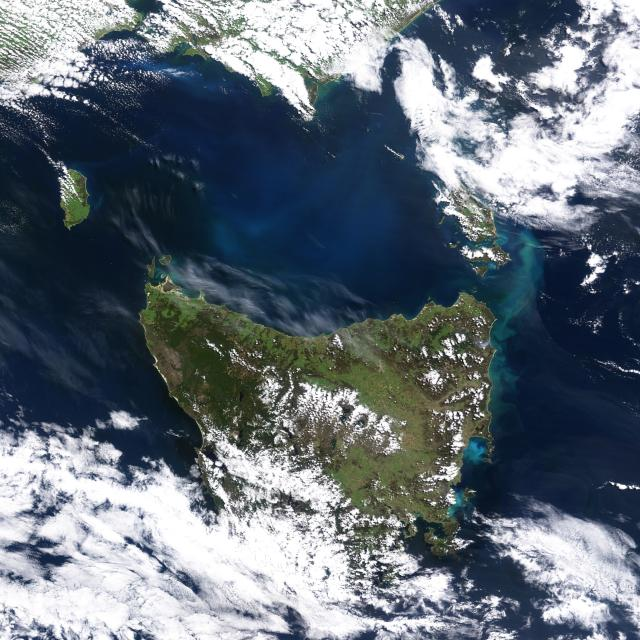algal: (509, 248, 544, 455)
oil spill: (269, 135, 411, 275)
